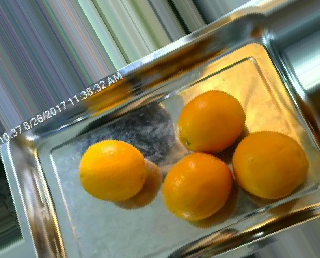Orange: (232, 130, 308, 199), (162, 151, 232, 220), (178, 88, 246, 155), (78, 139, 145, 201)
